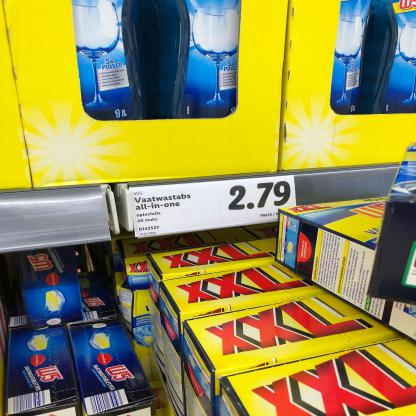prtg: (129, 176, 297, 238)
